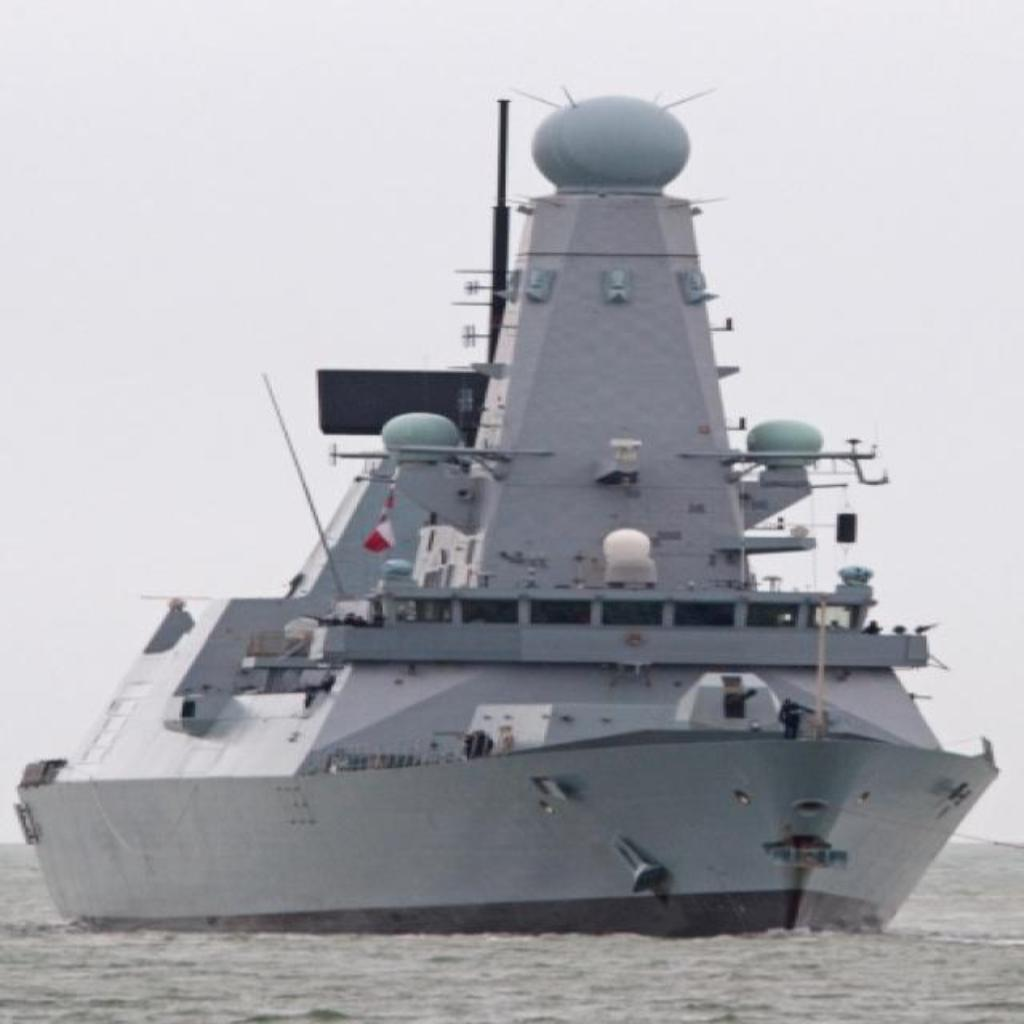Warship: (2, 75, 996, 937)
